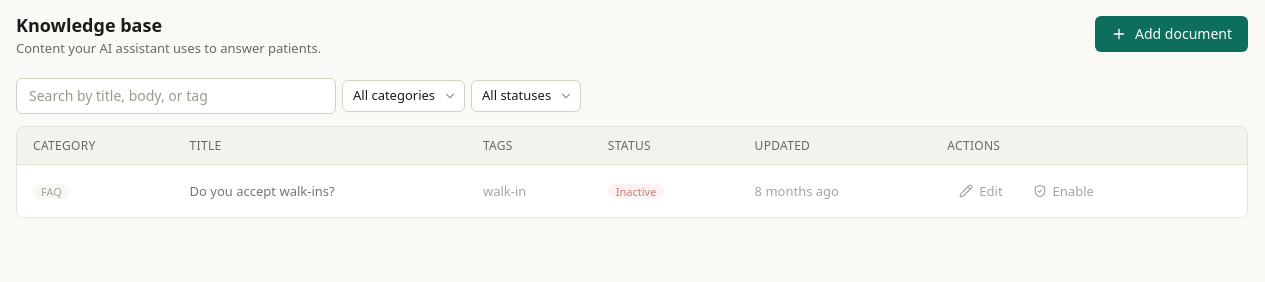
Test: KnowledgePage › enables a previously-disabled document with no confirmation step
The image size is (1265, 282).
Click the button with aria-label "Enable Do you accept walk-ins?": (1063, 191) [1021,175,1106,207]
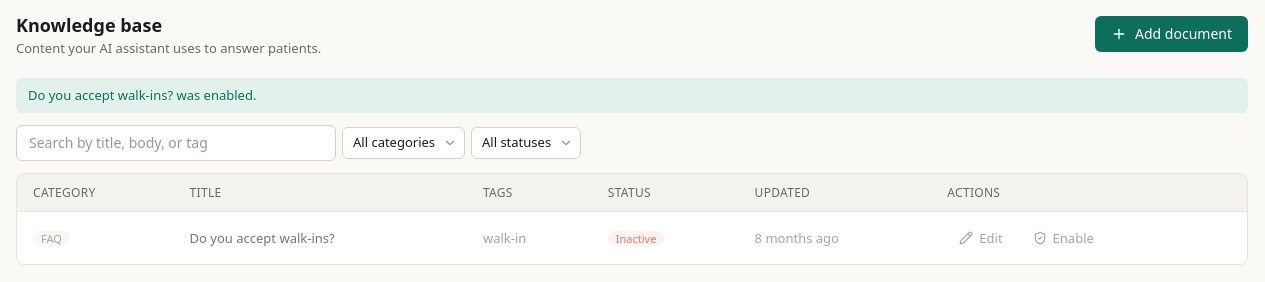
Check: the text "Do you accept walk-ins? was enabled." is shown, box [16,78,1248,113]
